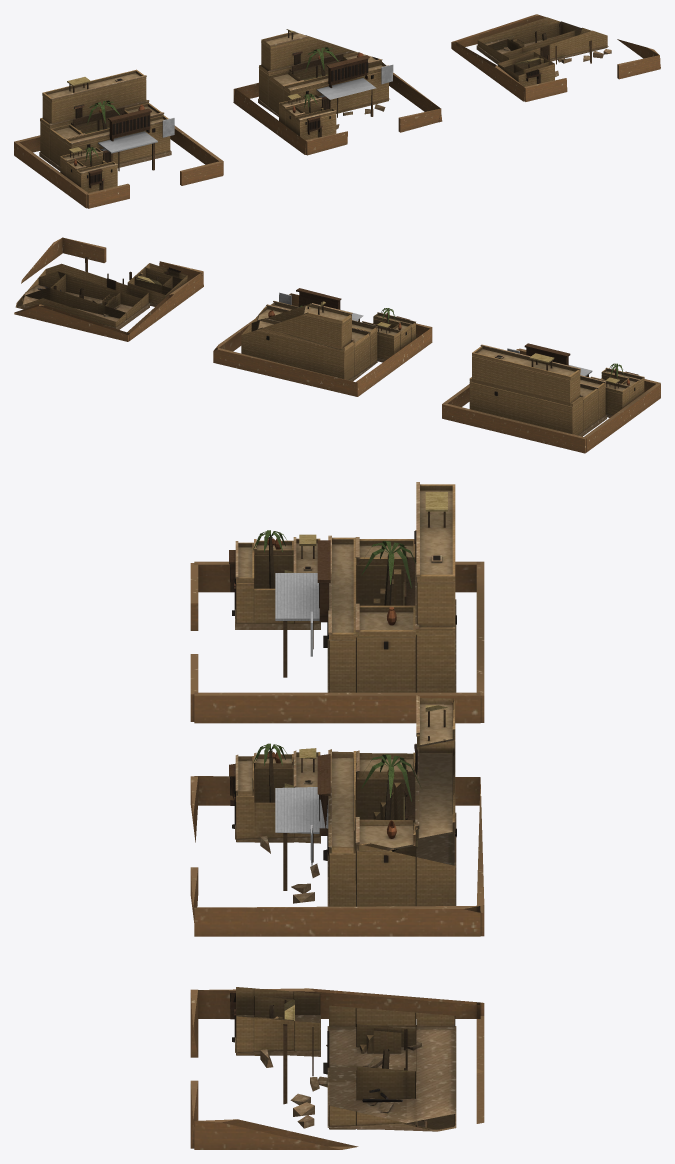
File: civic-gunpowder-mesopotamia.glb
The picture shows the model from 3 angles, top to bottom: view 1: azimuth 30°, elevation 25°; view 2: azimuth 150°, elevation 25°; view 3: azimuth 270°, elevation 25°; orthographic projection. The views are drawn at different scales.
Parts seen in each view (by area): view 1: LOD0, LOD0.001, LOD0.002; view 2: LOD0, LOD0.001, LOD0.002; view 3: LOD0.001, LOD0, LOD0.002.
Part boxes in pixels (x1,y1,x2,y2): LOD0: (14, 69, 223, 208); LOD0.001: (233, 29, 442, 155); LOD0.002: (451, 14, 660, 101); LOD0: (442, 343, 660, 453); LOD0.001: (213, 288, 432, 396); LOD0.002: (14, 237, 203, 341); LOD0.001: (190, 695, 484, 936); LOD0: (190, 482, 484, 723); LOD0.002: (190, 987, 484, 1149).
Size of what is drawn, in the model's own units: 7.89 by 0.92 by 1.74.
2 materials, 2 textured.
